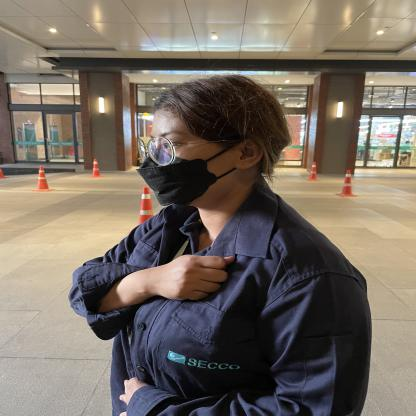Sadness: (53, 221, 238, 337)
